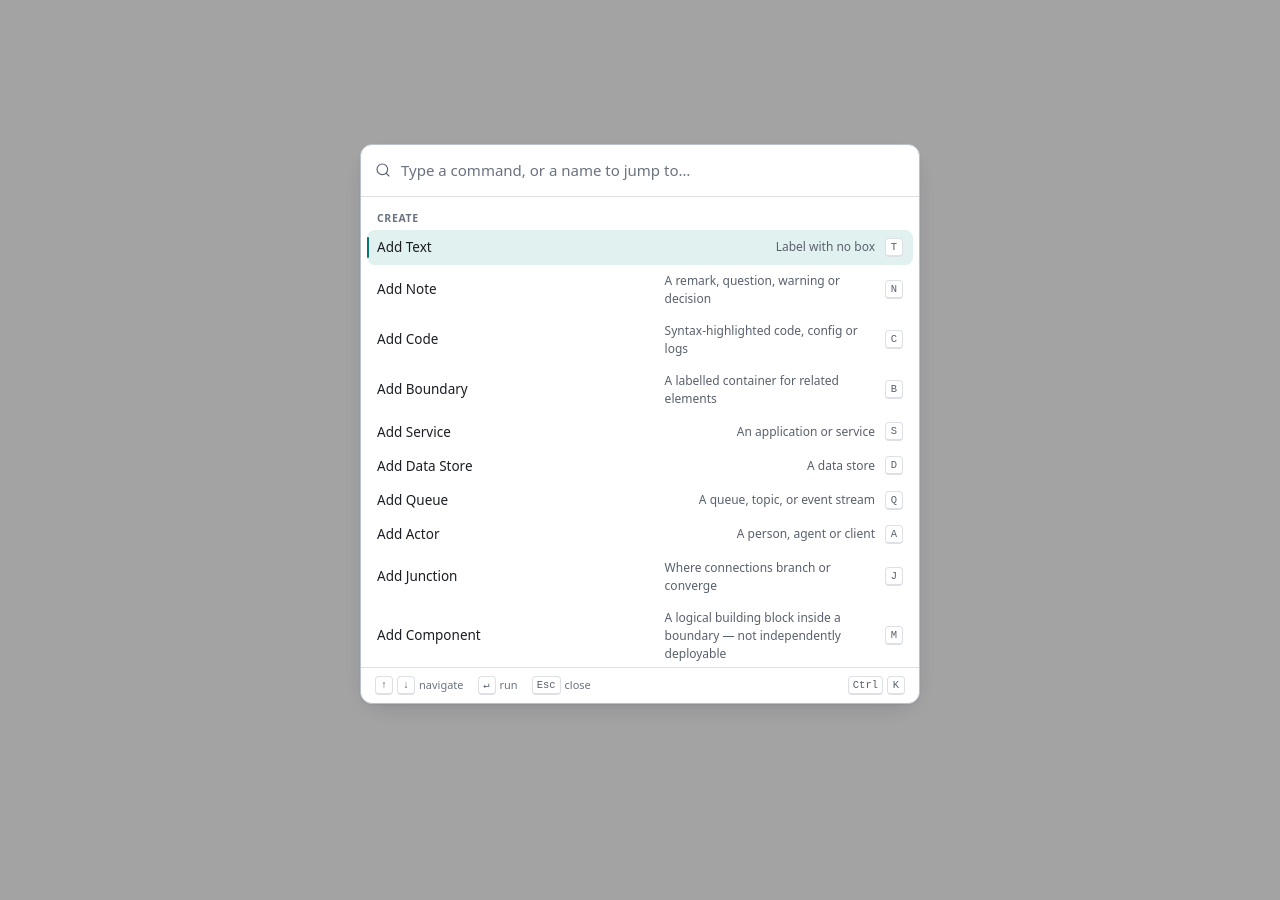
Test: CommandPalette › reopening after running a command starts from an empty query
Type "keyboard" into the dropdown at point(653, 170), box x1=401 y1=157 x2=905 y2=184
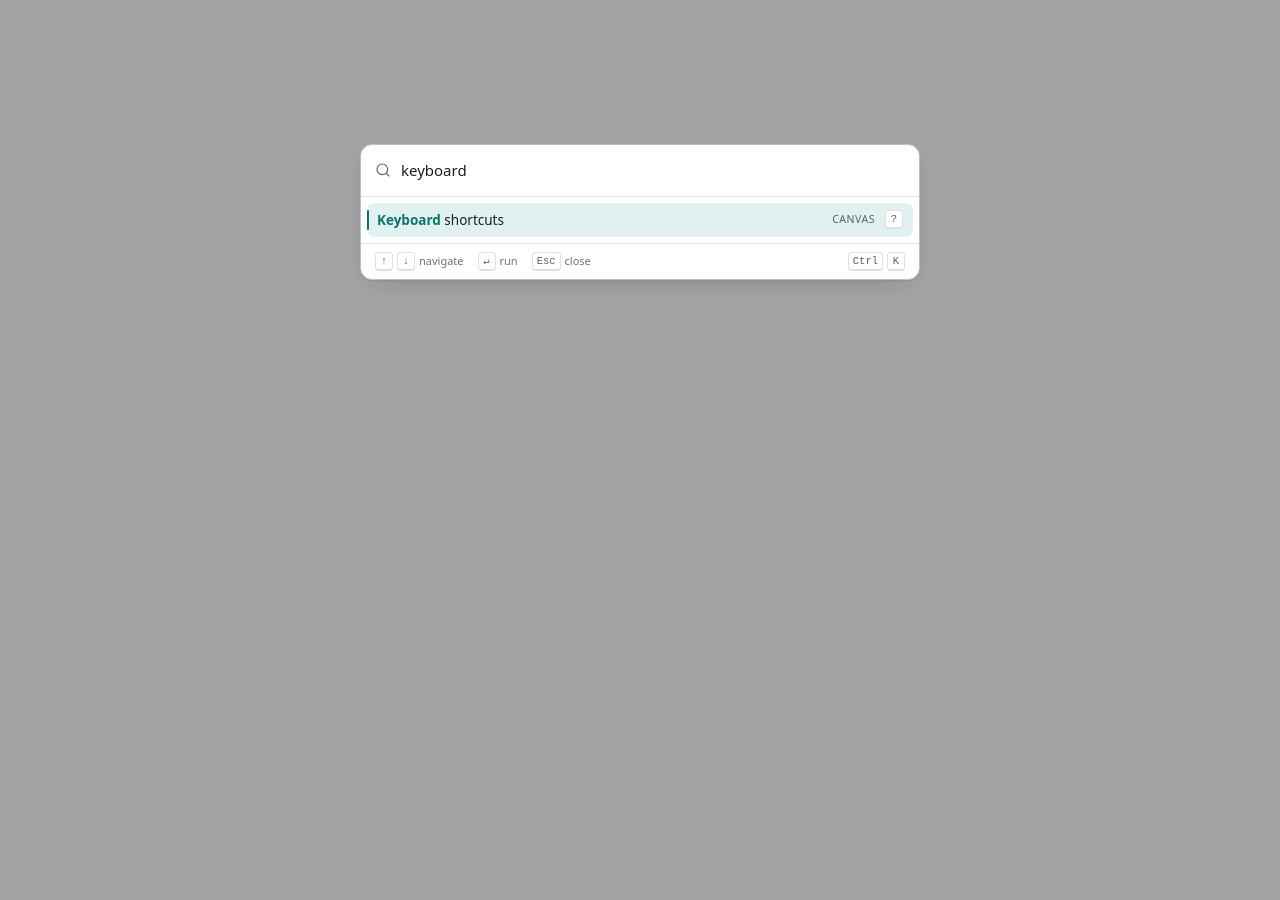
Press Enter
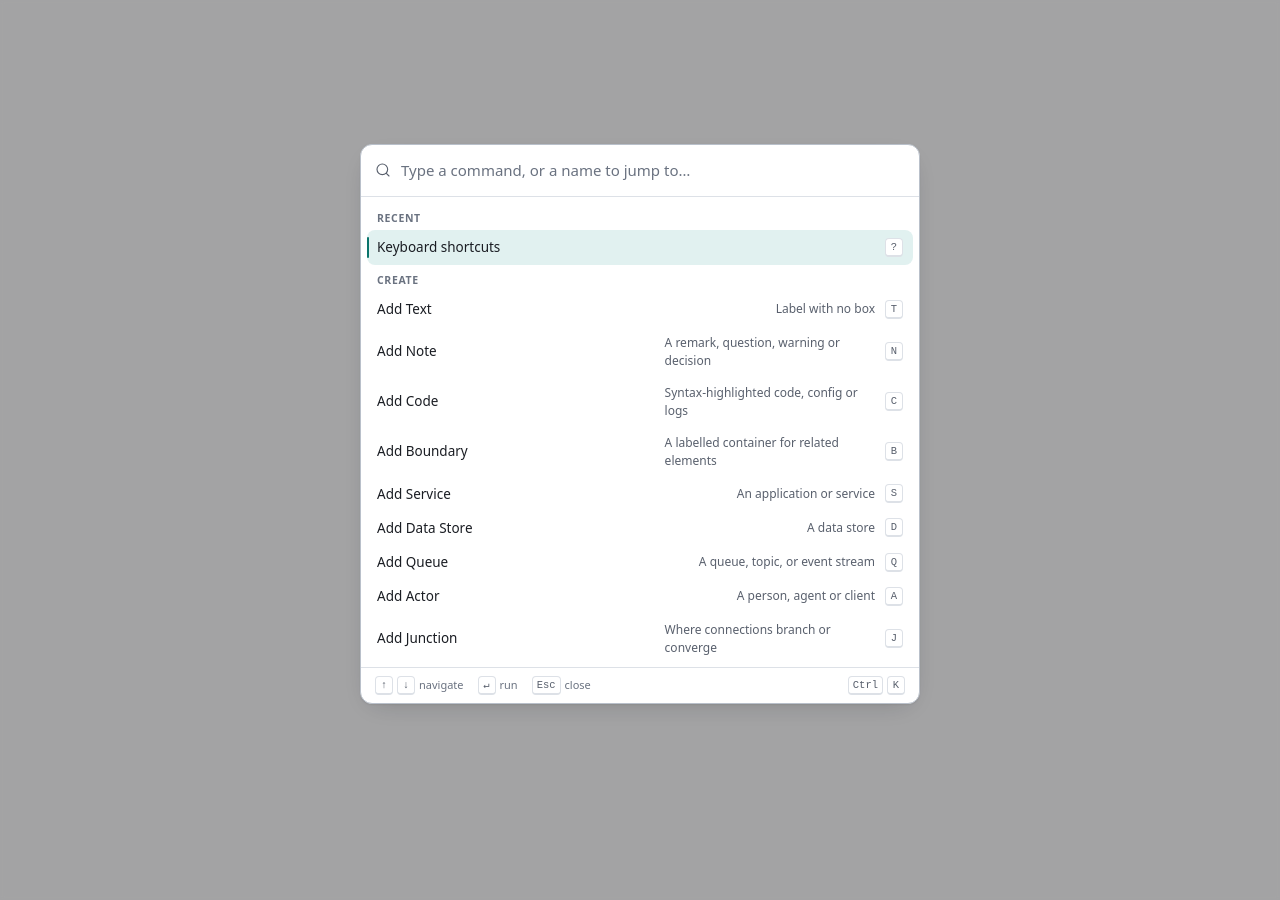
Expected: the dropdown is empty, x1=401 y1=157 x2=905 y2=184
Expected: the option "Keyboard shortcuts ?" is shown, x1=367 y1=230 x2=913 y2=265
Expected: the text "Recent" is shown, x1=367 y1=202 x2=913 y2=230
